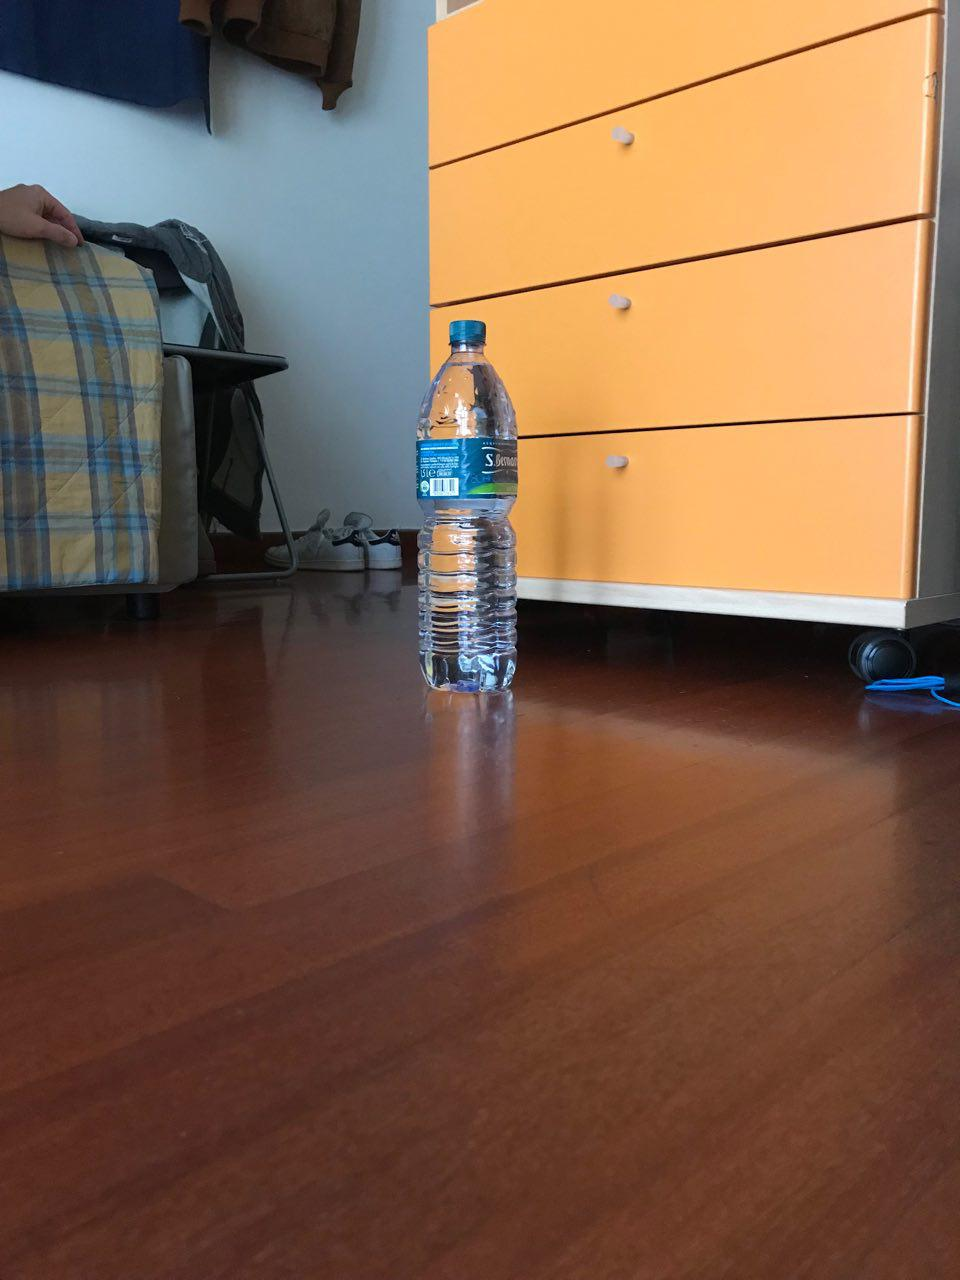san_bernardo: (412, 316, 523, 696)
